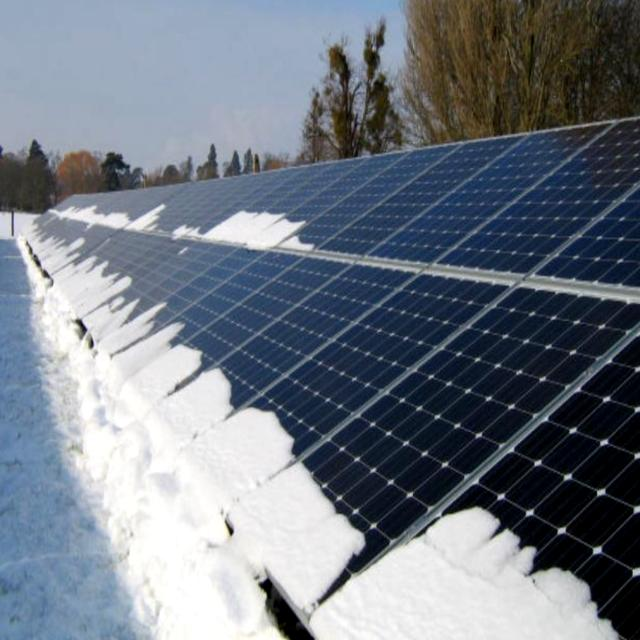panel: (201, 493, 317, 612), (42, 282, 122, 429), (537, 529, 640, 639), (281, 452, 379, 562), (214, 354, 298, 452), (133, 300, 205, 398), (444, 498, 530, 578), (216, 202, 315, 262), (81, 243, 127, 304), (18, 218, 67, 270), (118, 202, 170, 238), (166, 210, 215, 246), (64, 198, 112, 228)
